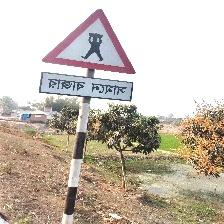Market-in-front: (40, 8, 137, 103)
